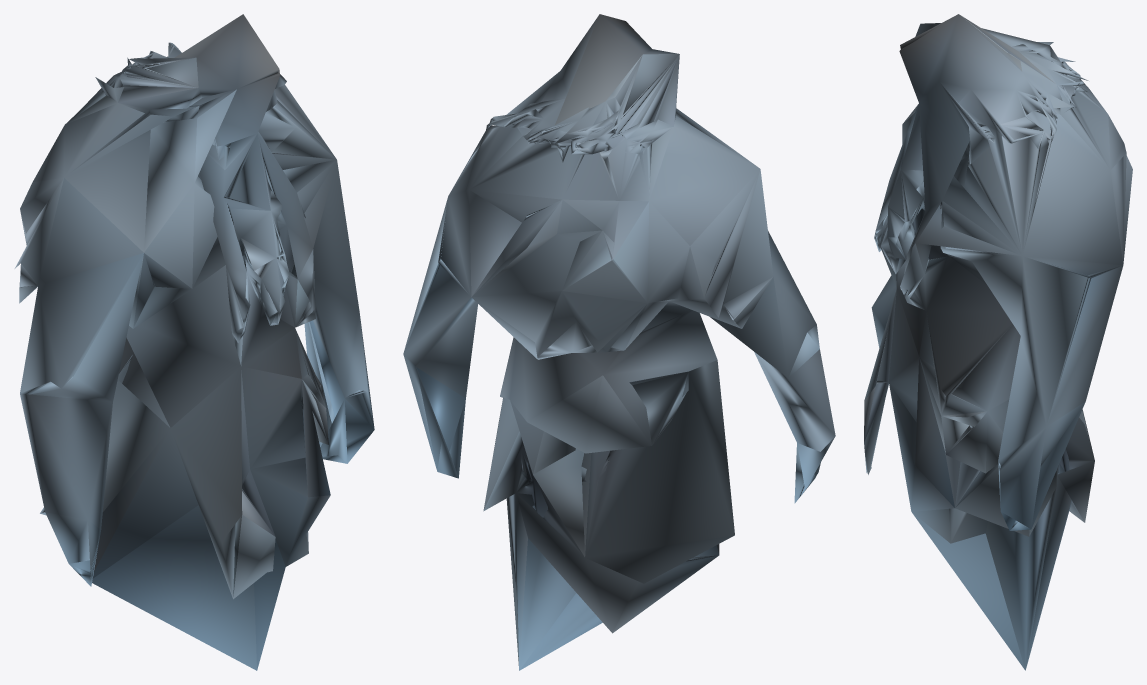
File: ghost-wraithB-far.glb
The picture shows the model from 3 angles, left to right: view 1: azimuth 30°, elevation 25°; view 2: azimuth 150°, elevation 25°; view 3: azimuth 270°, elevation 25°; orthographic projection. The views are drawn at different scales.
Size of the model in its own units: 1.01 by 1.72 by 0.6604.
